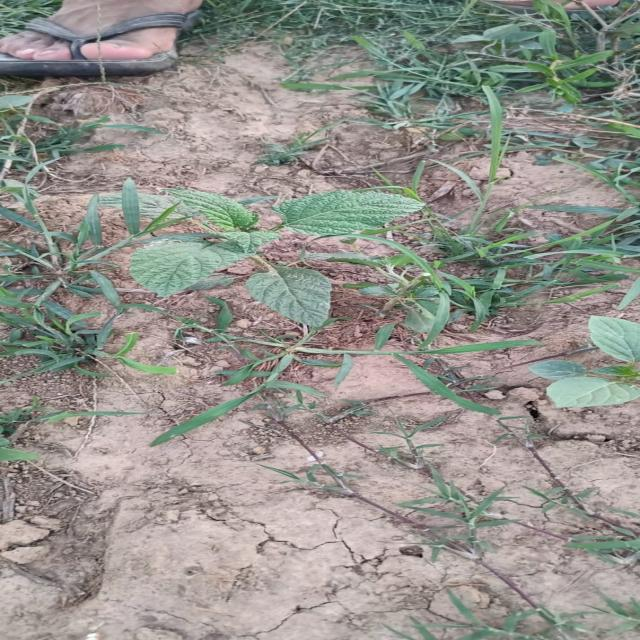plant: (119, 180, 422, 330)
